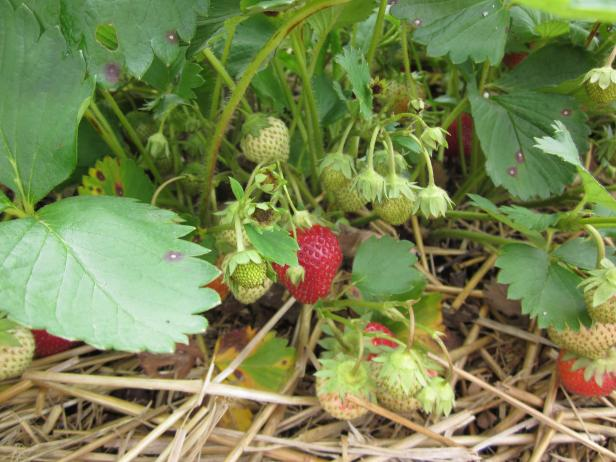ripe: (272, 221, 341, 306), (553, 346, 614, 402), (34, 313, 72, 359), (201, 256, 235, 305), (357, 317, 399, 356)
unripe: (308, 356, 371, 424), (538, 300, 614, 356), (371, 351, 430, 415), (224, 251, 276, 307), (235, 115, 292, 165), (374, 176, 418, 230), (581, 261, 609, 316), (415, 185, 456, 219), (339, 177, 371, 216), (320, 156, 352, 191), (357, 167, 386, 202), (23, 325, 41, 379)
